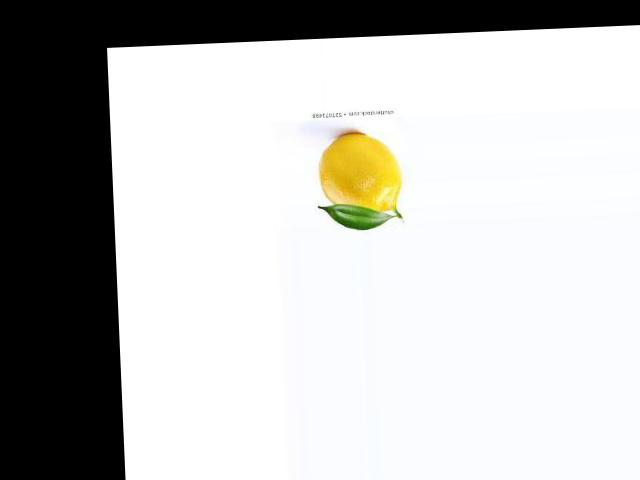lemon: (307, 118, 409, 227)
